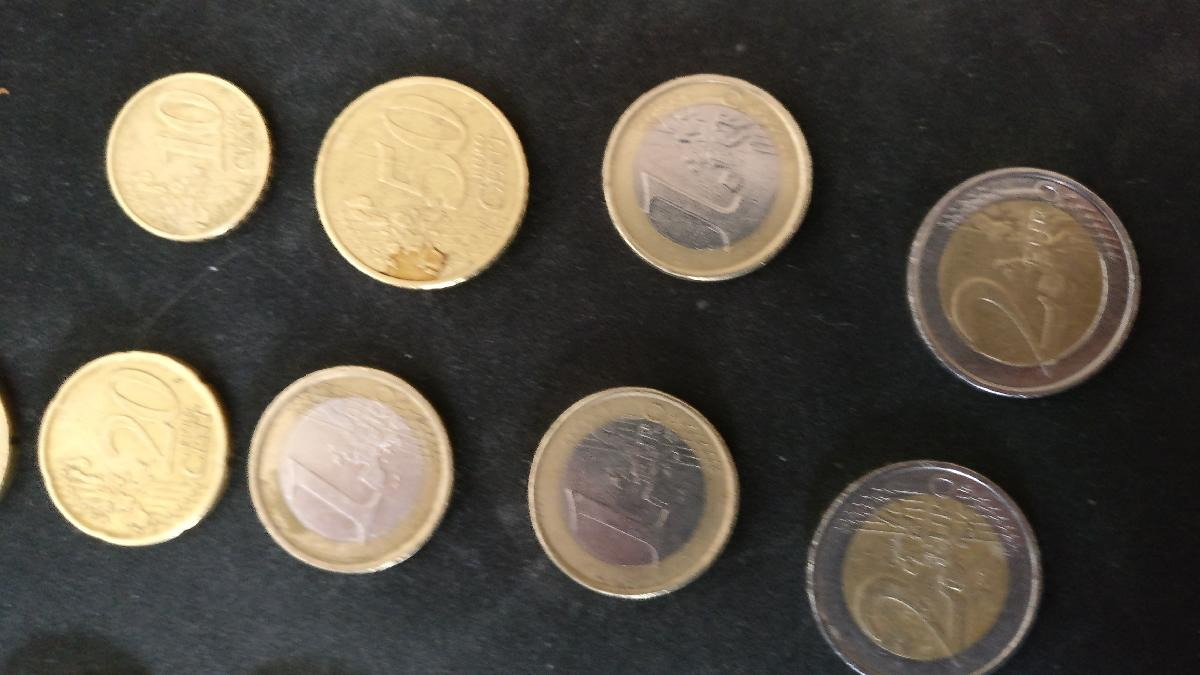Fifty Cent: (311, 74, 534, 287)
One Euro: (592, 71, 817, 283), (527, 386, 743, 603), (246, 361, 457, 576)
Ten Cent: (105, 74, 278, 240)
Twenty Cent: (40, 353, 234, 545)
Two Euro: (906, 165, 1141, 399), (805, 458, 1044, 675)
